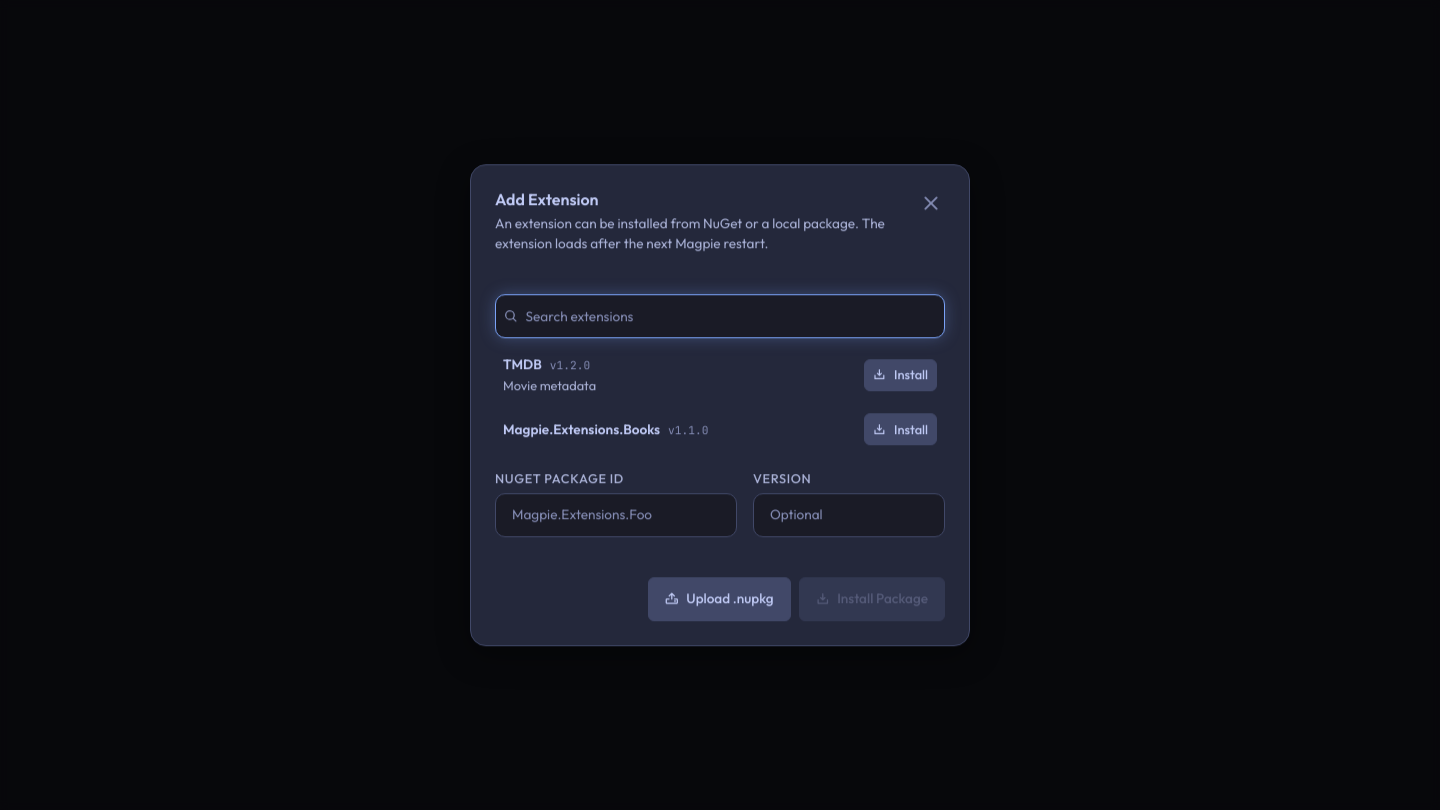
InstallExtensionDialog › keeps a failed package install open with a recoverable error
This screenshot has width=1440, height=810.
In the field labelled "NuGet Package ID": [616, 515] box [496,497,736,533], type "Magpie.Missing"
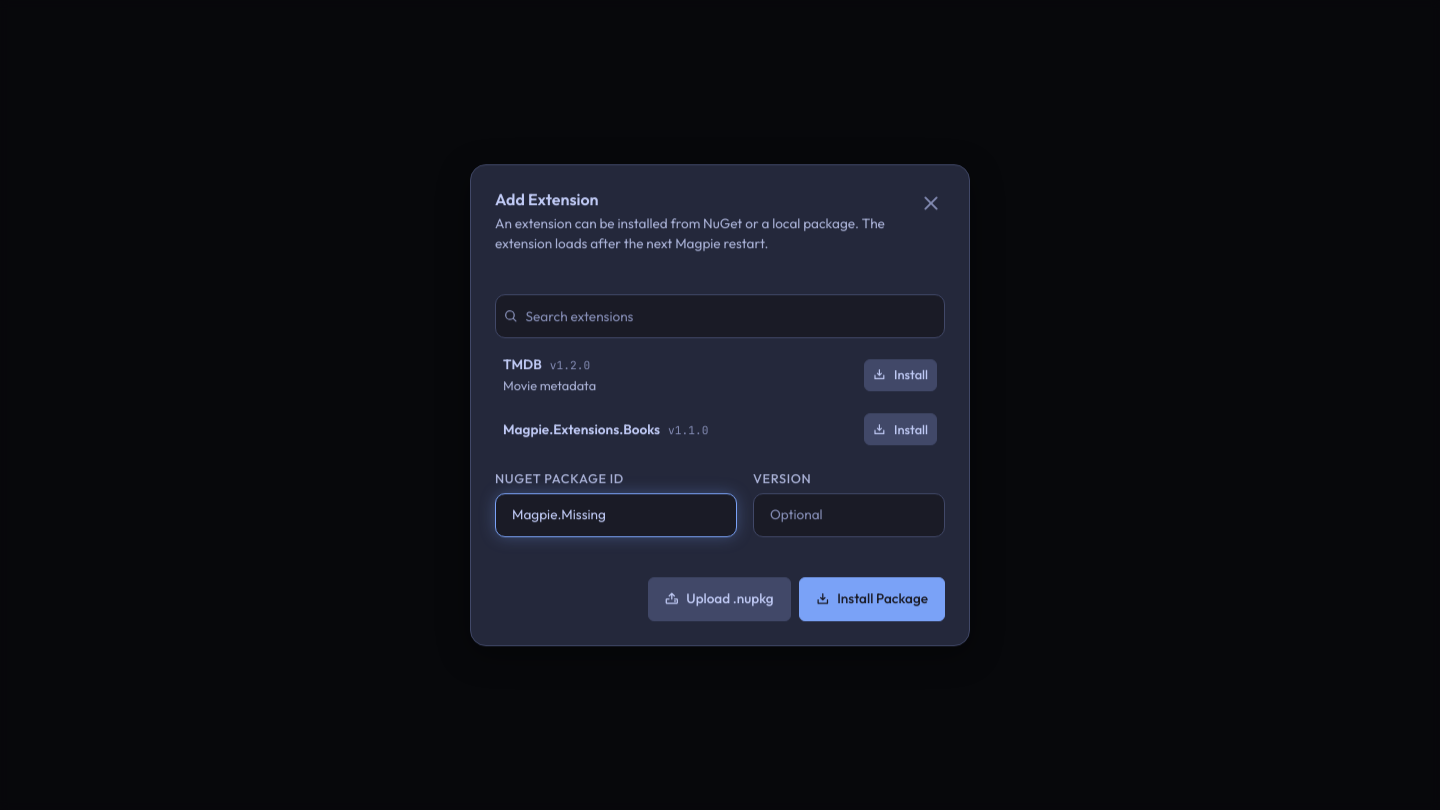
Click the button "Install Package": [872, 599] box [799,577,945,621]
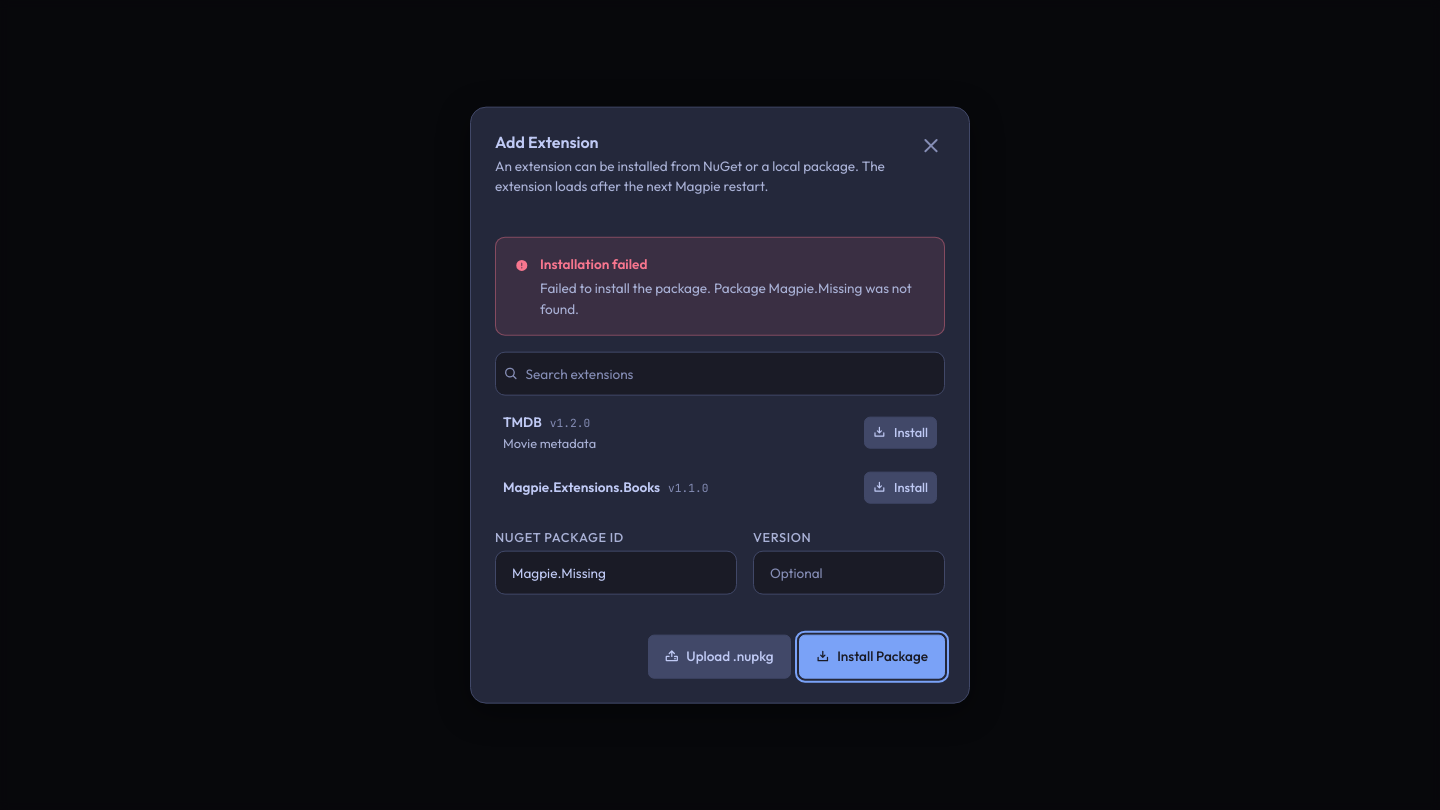
Expected: the button "Install Package" is enabled, [799,634,945,678]
Expected: the message with test id "install-extension-dialog__error" shows "Installation failed", [540,254,648,272]
Expected: the message with test id "install-extension-dialog__error" shows "Failed to install the package. Package Magpie.Missing was not found.", [540,279,912,317]
